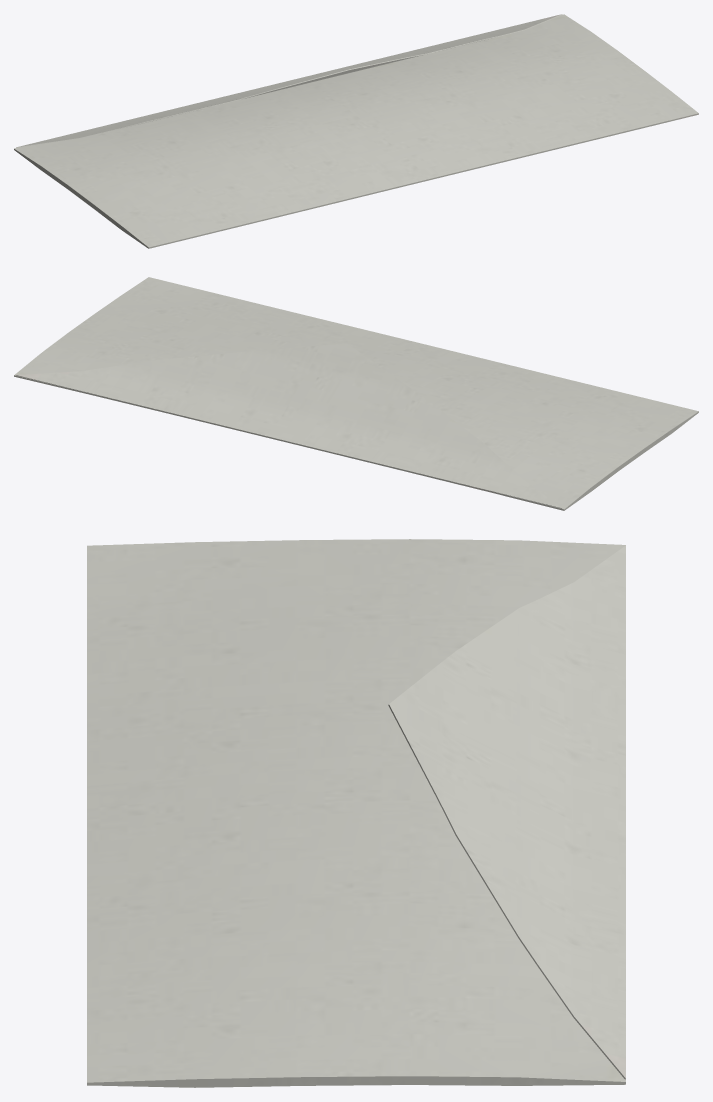
File: letter.glb
3 views of the same model, one above another, from view 1: azimuth 30°, elevation 25°; view 2: azimuth 150°, elevation 25°; view 3: azimuth 270°, elevation 25° (orthographic). The views are drawn at different scales.
Visible parts, largest first — view 1: Envelope_2_Paper& Envelope_0; view 2: Envelope_2_Paper& Envelope_0; view 3: Envelope_2_Paper& Envelope_0.
Boxes of the visible parts, x1=… form: Envelope_2_Paper& Envelope_0: x1=14, y1=14, x2=698, y2=248; Envelope_2_Paper& Envelope_0: x1=14, y1=277, x2=698, y2=510; Envelope_2_Paper& Envelope_0: x1=87, y1=539, x2=625, y2=1087.
Size of the model in its own units: 0.22 by 0.0222 by 0.0933.
Materials: 1 (1 with a texture image).
